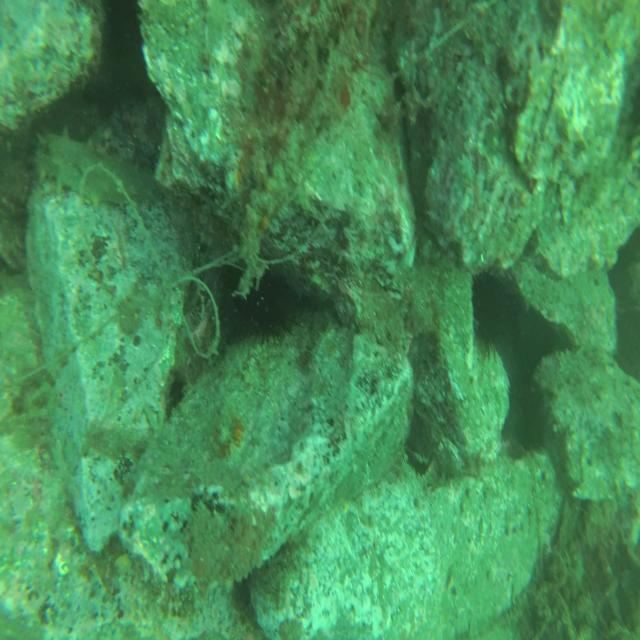echinus: (468, 259, 526, 351), (235, 279, 297, 346)
holothurian: (30, 125, 160, 211)
